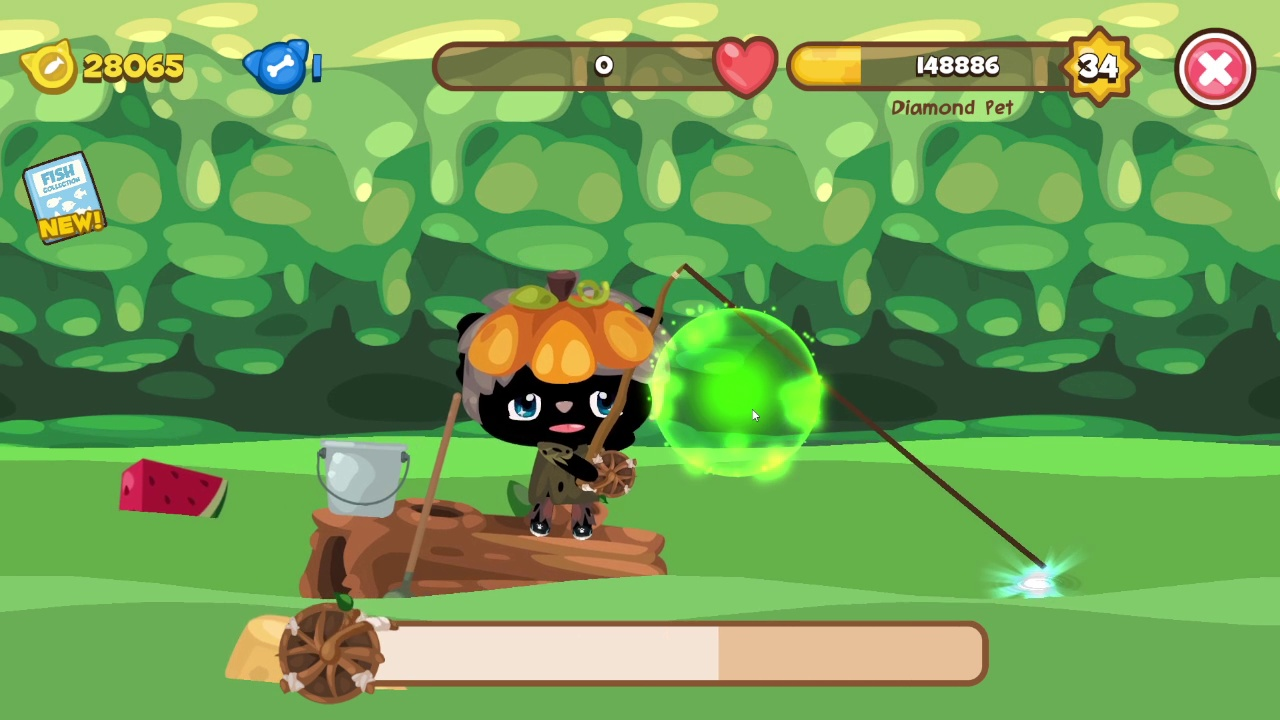point: (652, 307, 824, 482)
